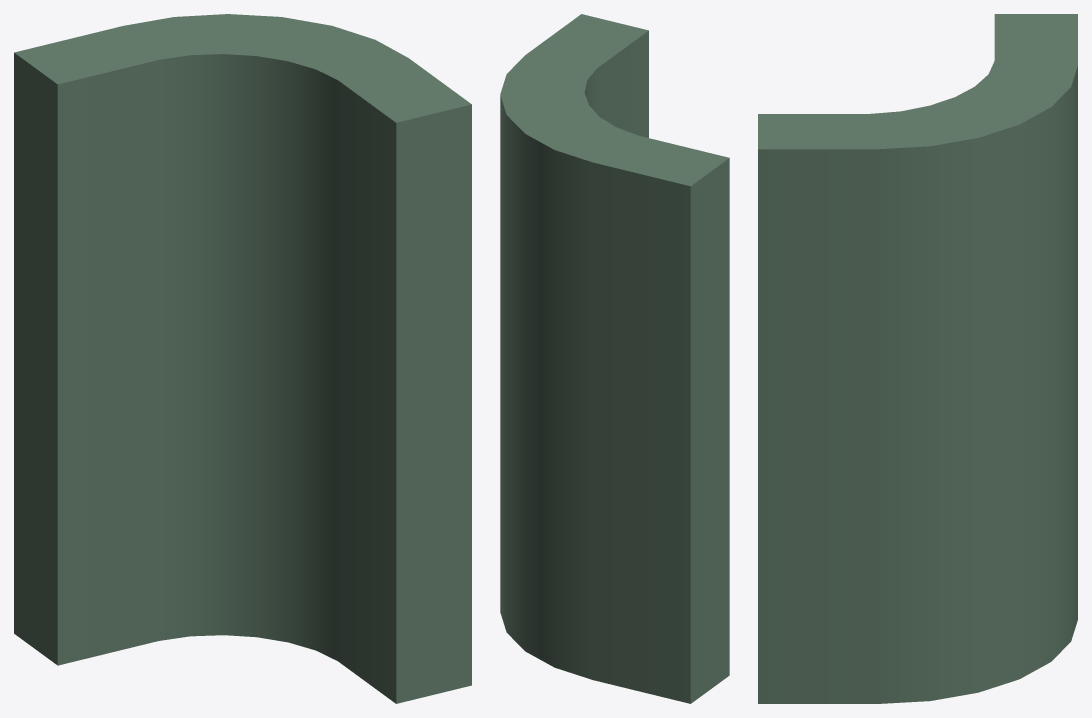
The model's file is W2_WallCorner_Round1A.fbx.
3 views of the same model, side by side, from view 1: azimuth 30°, elevation 25°; view 2: azimuth 150°, elevation 25°; view 3: azimuth 270°, elevation 25° (orthographic). The views are drawn at different scales.
Visible parts, largest first — view 1: W2_WallCorner_Round1A.001; view 2: W2_WallCorner_Round1A.001; view 3: W2_WallCorner_Round1A.001.
Boxes of the visible parts, x1=… form: W2_WallCorner_Round1A.001: x1=14, y1=14, x2=471, y2=703; W2_WallCorner_Round1A.001: x1=500, y1=14, x2=729, y2=703; W2_WallCorner_Round1A.001: x1=758, y1=14, x2=1077, y2=703.
Size of the model in its own units: 1.15 by 2.2 by 1.15.
